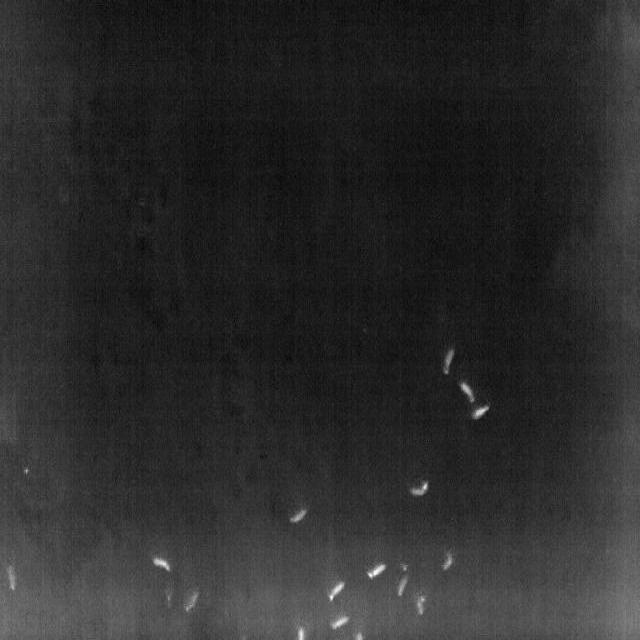deer: (457, 379, 476, 404), (409, 480, 429, 498), (442, 349, 455, 376), (367, 563, 387, 580), (328, 582, 345, 602), (6, 563, 18, 590), (470, 404, 491, 419), (289, 509, 308, 525), (441, 550, 456, 570), (397, 573, 409, 598), (330, 616, 351, 630), (152, 556, 170, 572), (185, 592, 199, 612), (416, 594, 427, 616), (295, 629, 306, 640), (354, 630, 364, 640)
